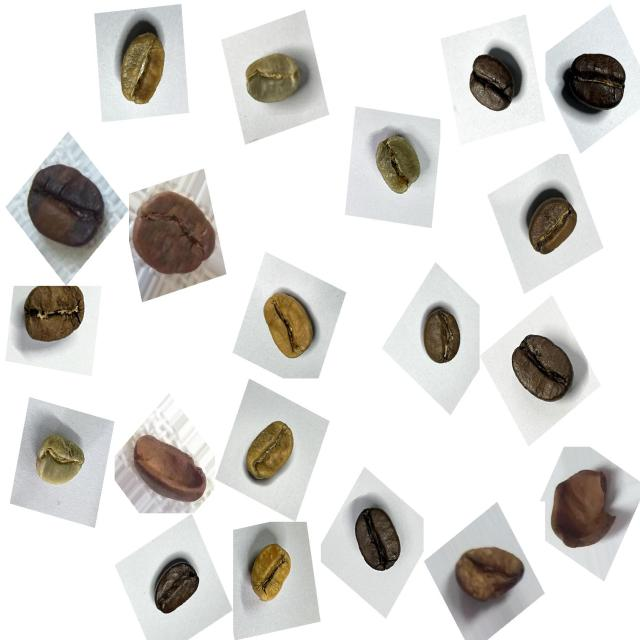bad: (126, 177, 222, 285), (18, 153, 113, 259), (542, 456, 628, 561), (449, 530, 532, 618), (129, 428, 209, 516)
dark: (502, 324, 580, 416), (558, 38, 639, 126), (342, 498, 412, 584), (459, 38, 527, 125), (143, 549, 206, 627)
green: (235, 39, 312, 120), (361, 124, 431, 208), (26, 422, 94, 499)
light: (105, 18, 178, 121), (253, 282, 326, 371), (240, 409, 307, 492), (241, 536, 303, 616)
medium: (15, 280, 96, 357), (518, 185, 588, 268), (414, 301, 473, 376)
